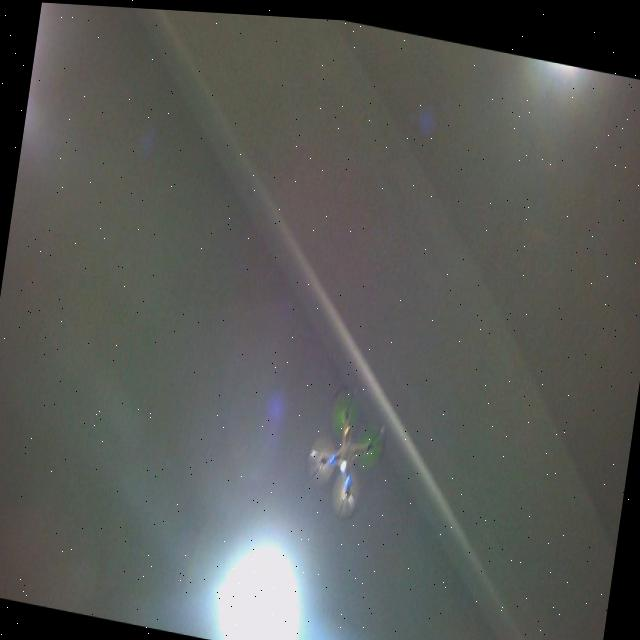drone: (296, 374, 396, 527)
